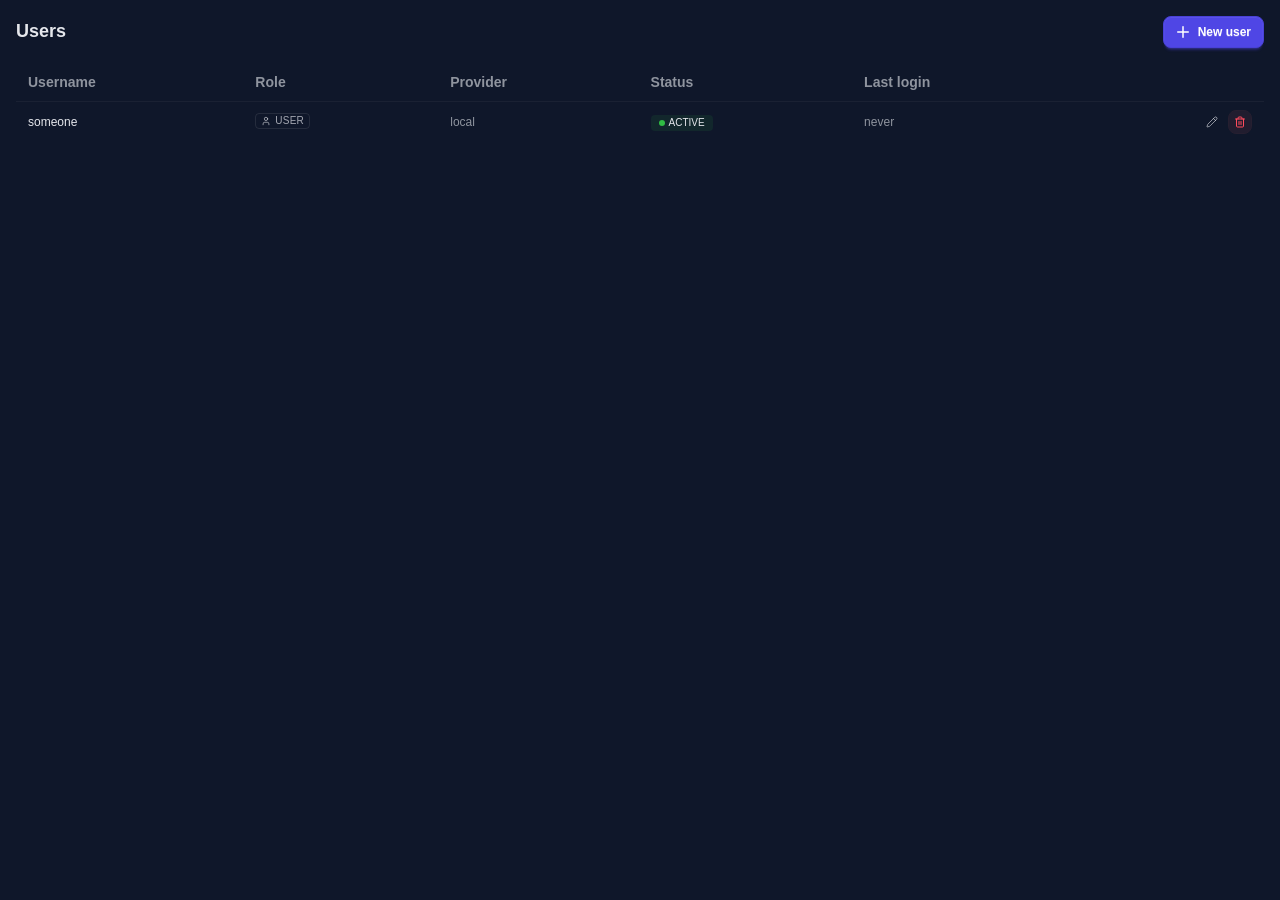
Test: editing a user sends its role and active flag, no password unless one is typed, and refetches
Check: the cell "someone" is shown, box [16, 102, 243, 142]
Click the button named "Edit someone" at [1212, 122], box [1200, 110, 1224, 134]
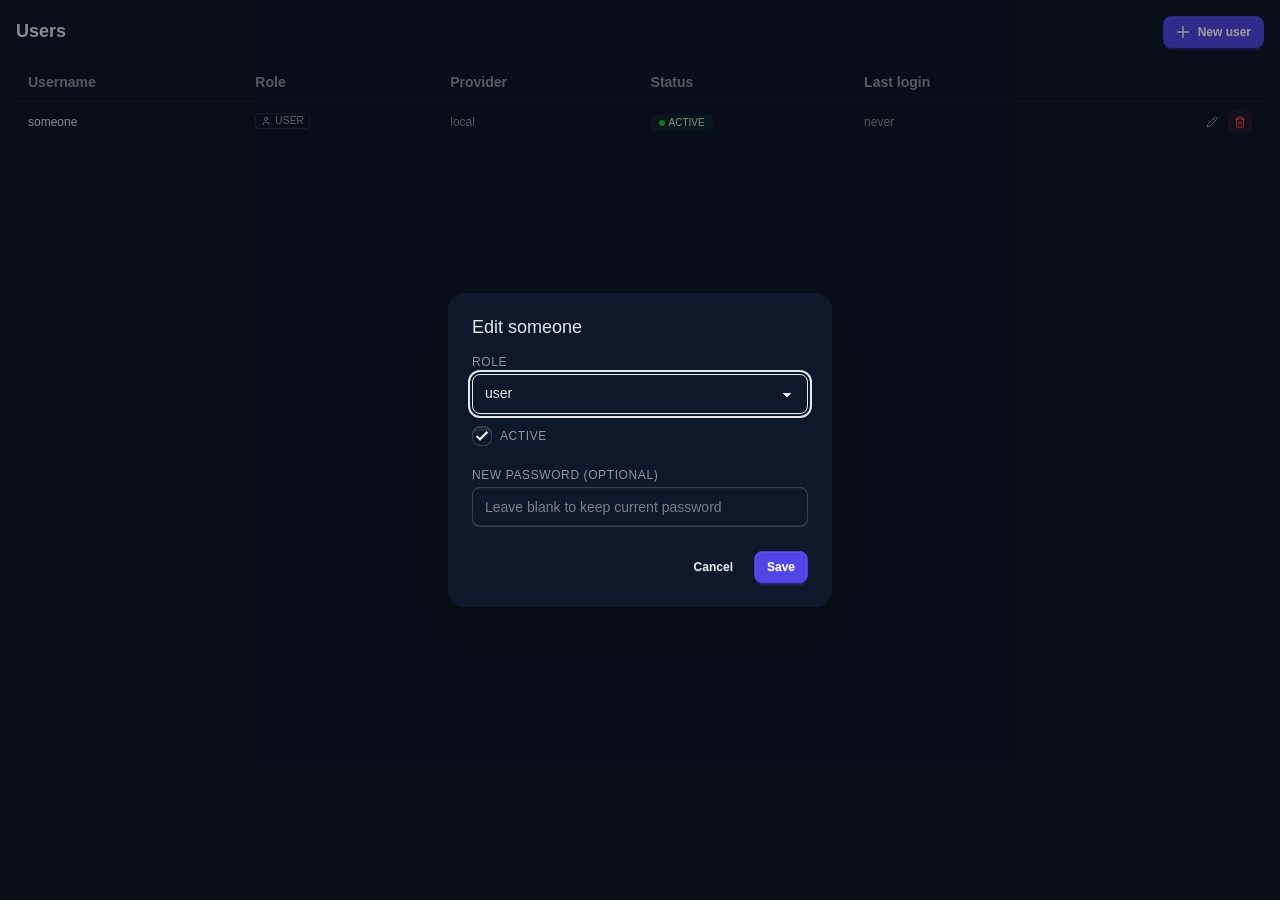
Select "admin" in the dropdown labelled "Role" at [640, 394], box [472, 374, 808, 414]
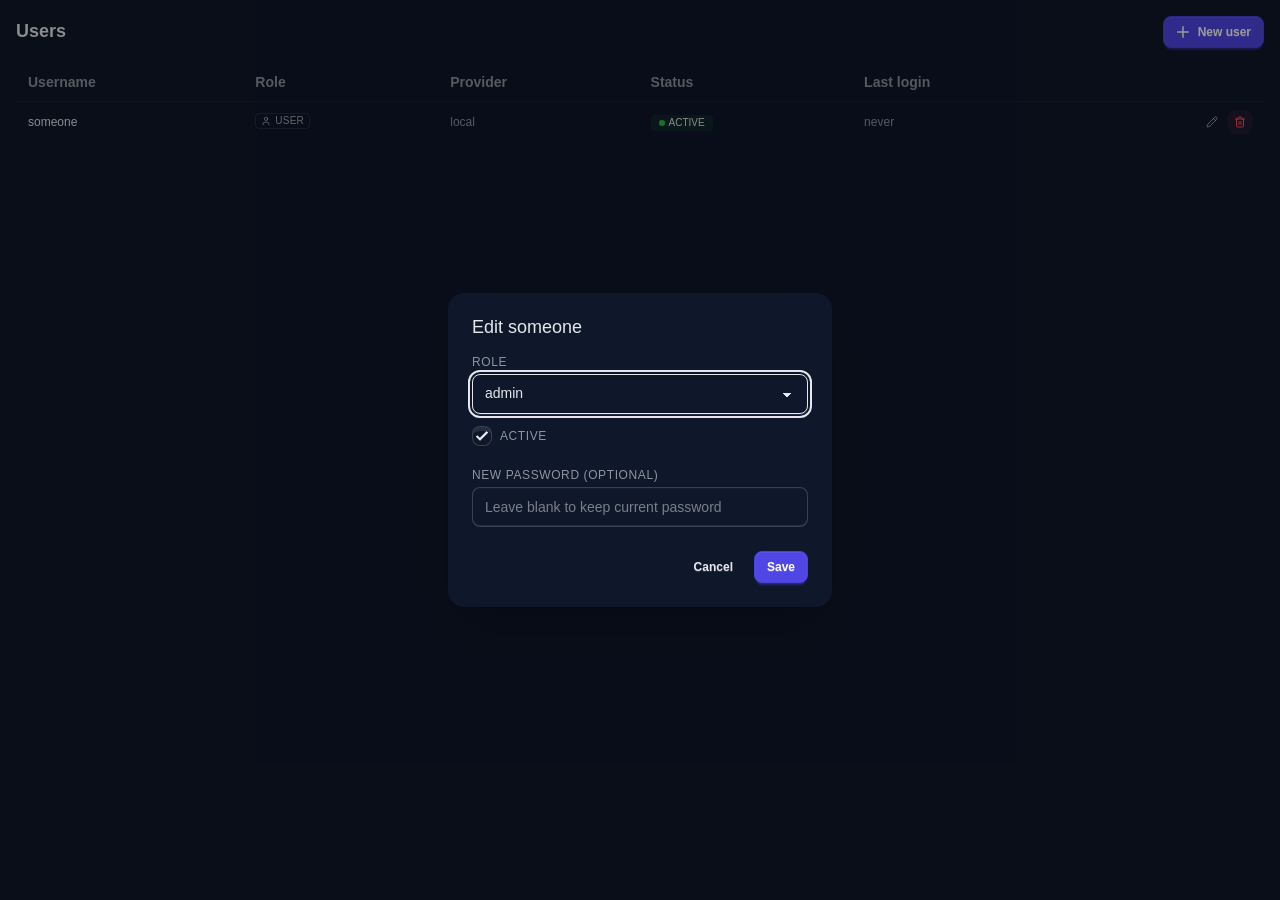
Click the button "Save" at [781, 567], box [754, 551, 808, 583]
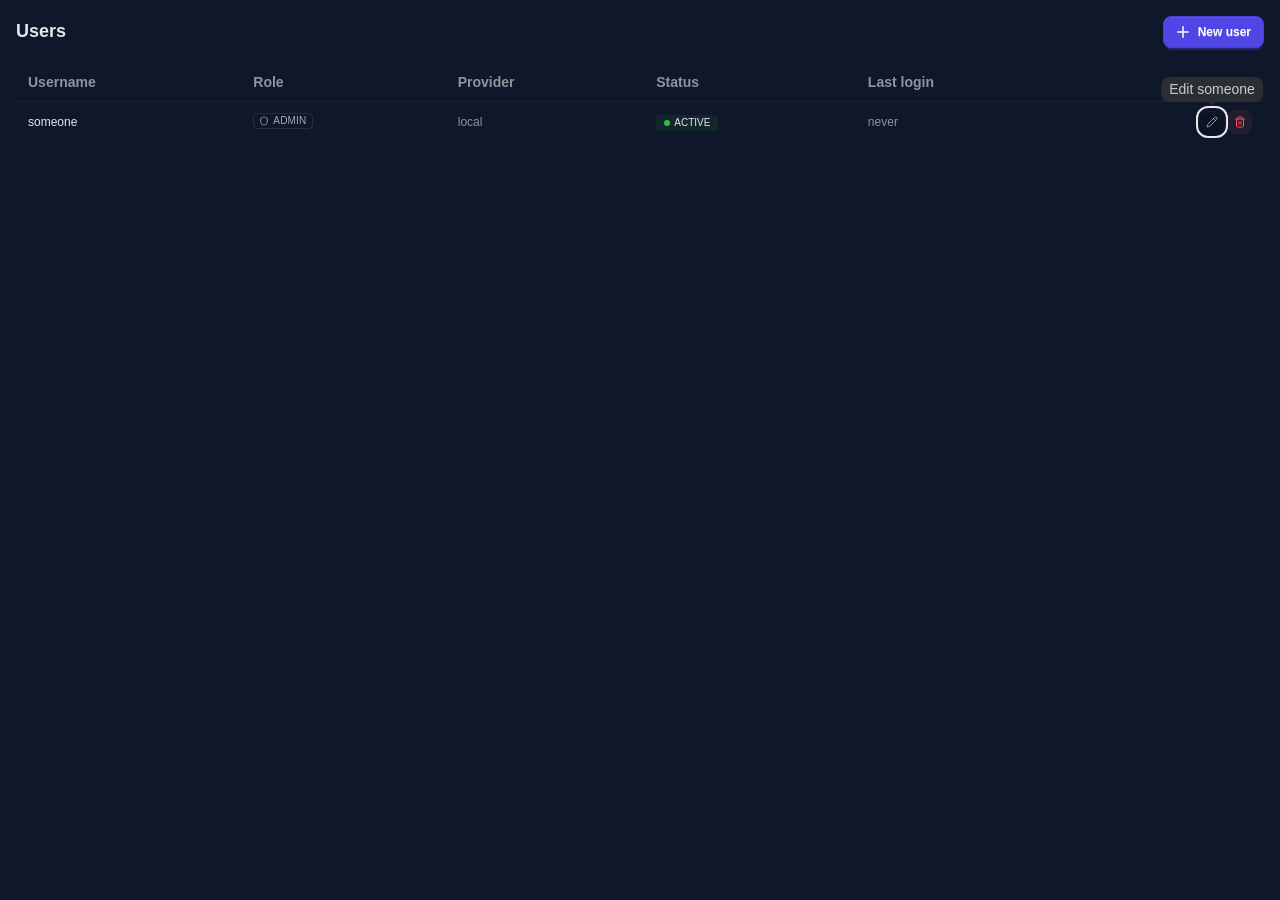
Check: the text "admin" is shown, box [253, 113, 312, 129]
